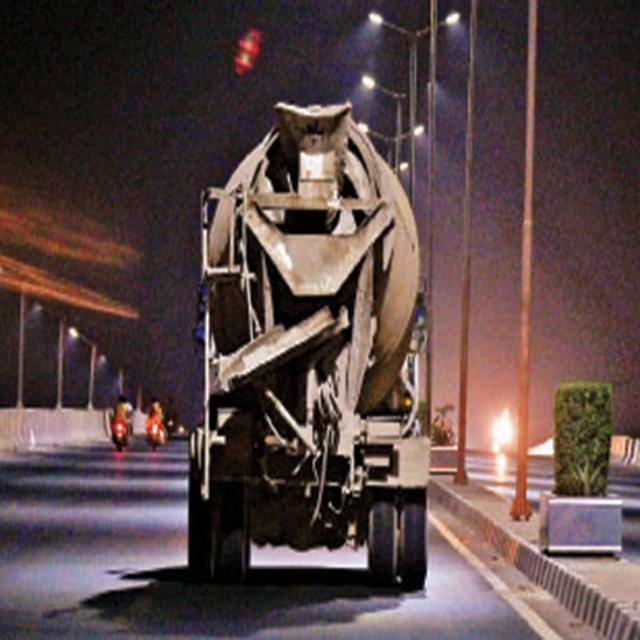truck: (189, 102, 430, 590)
